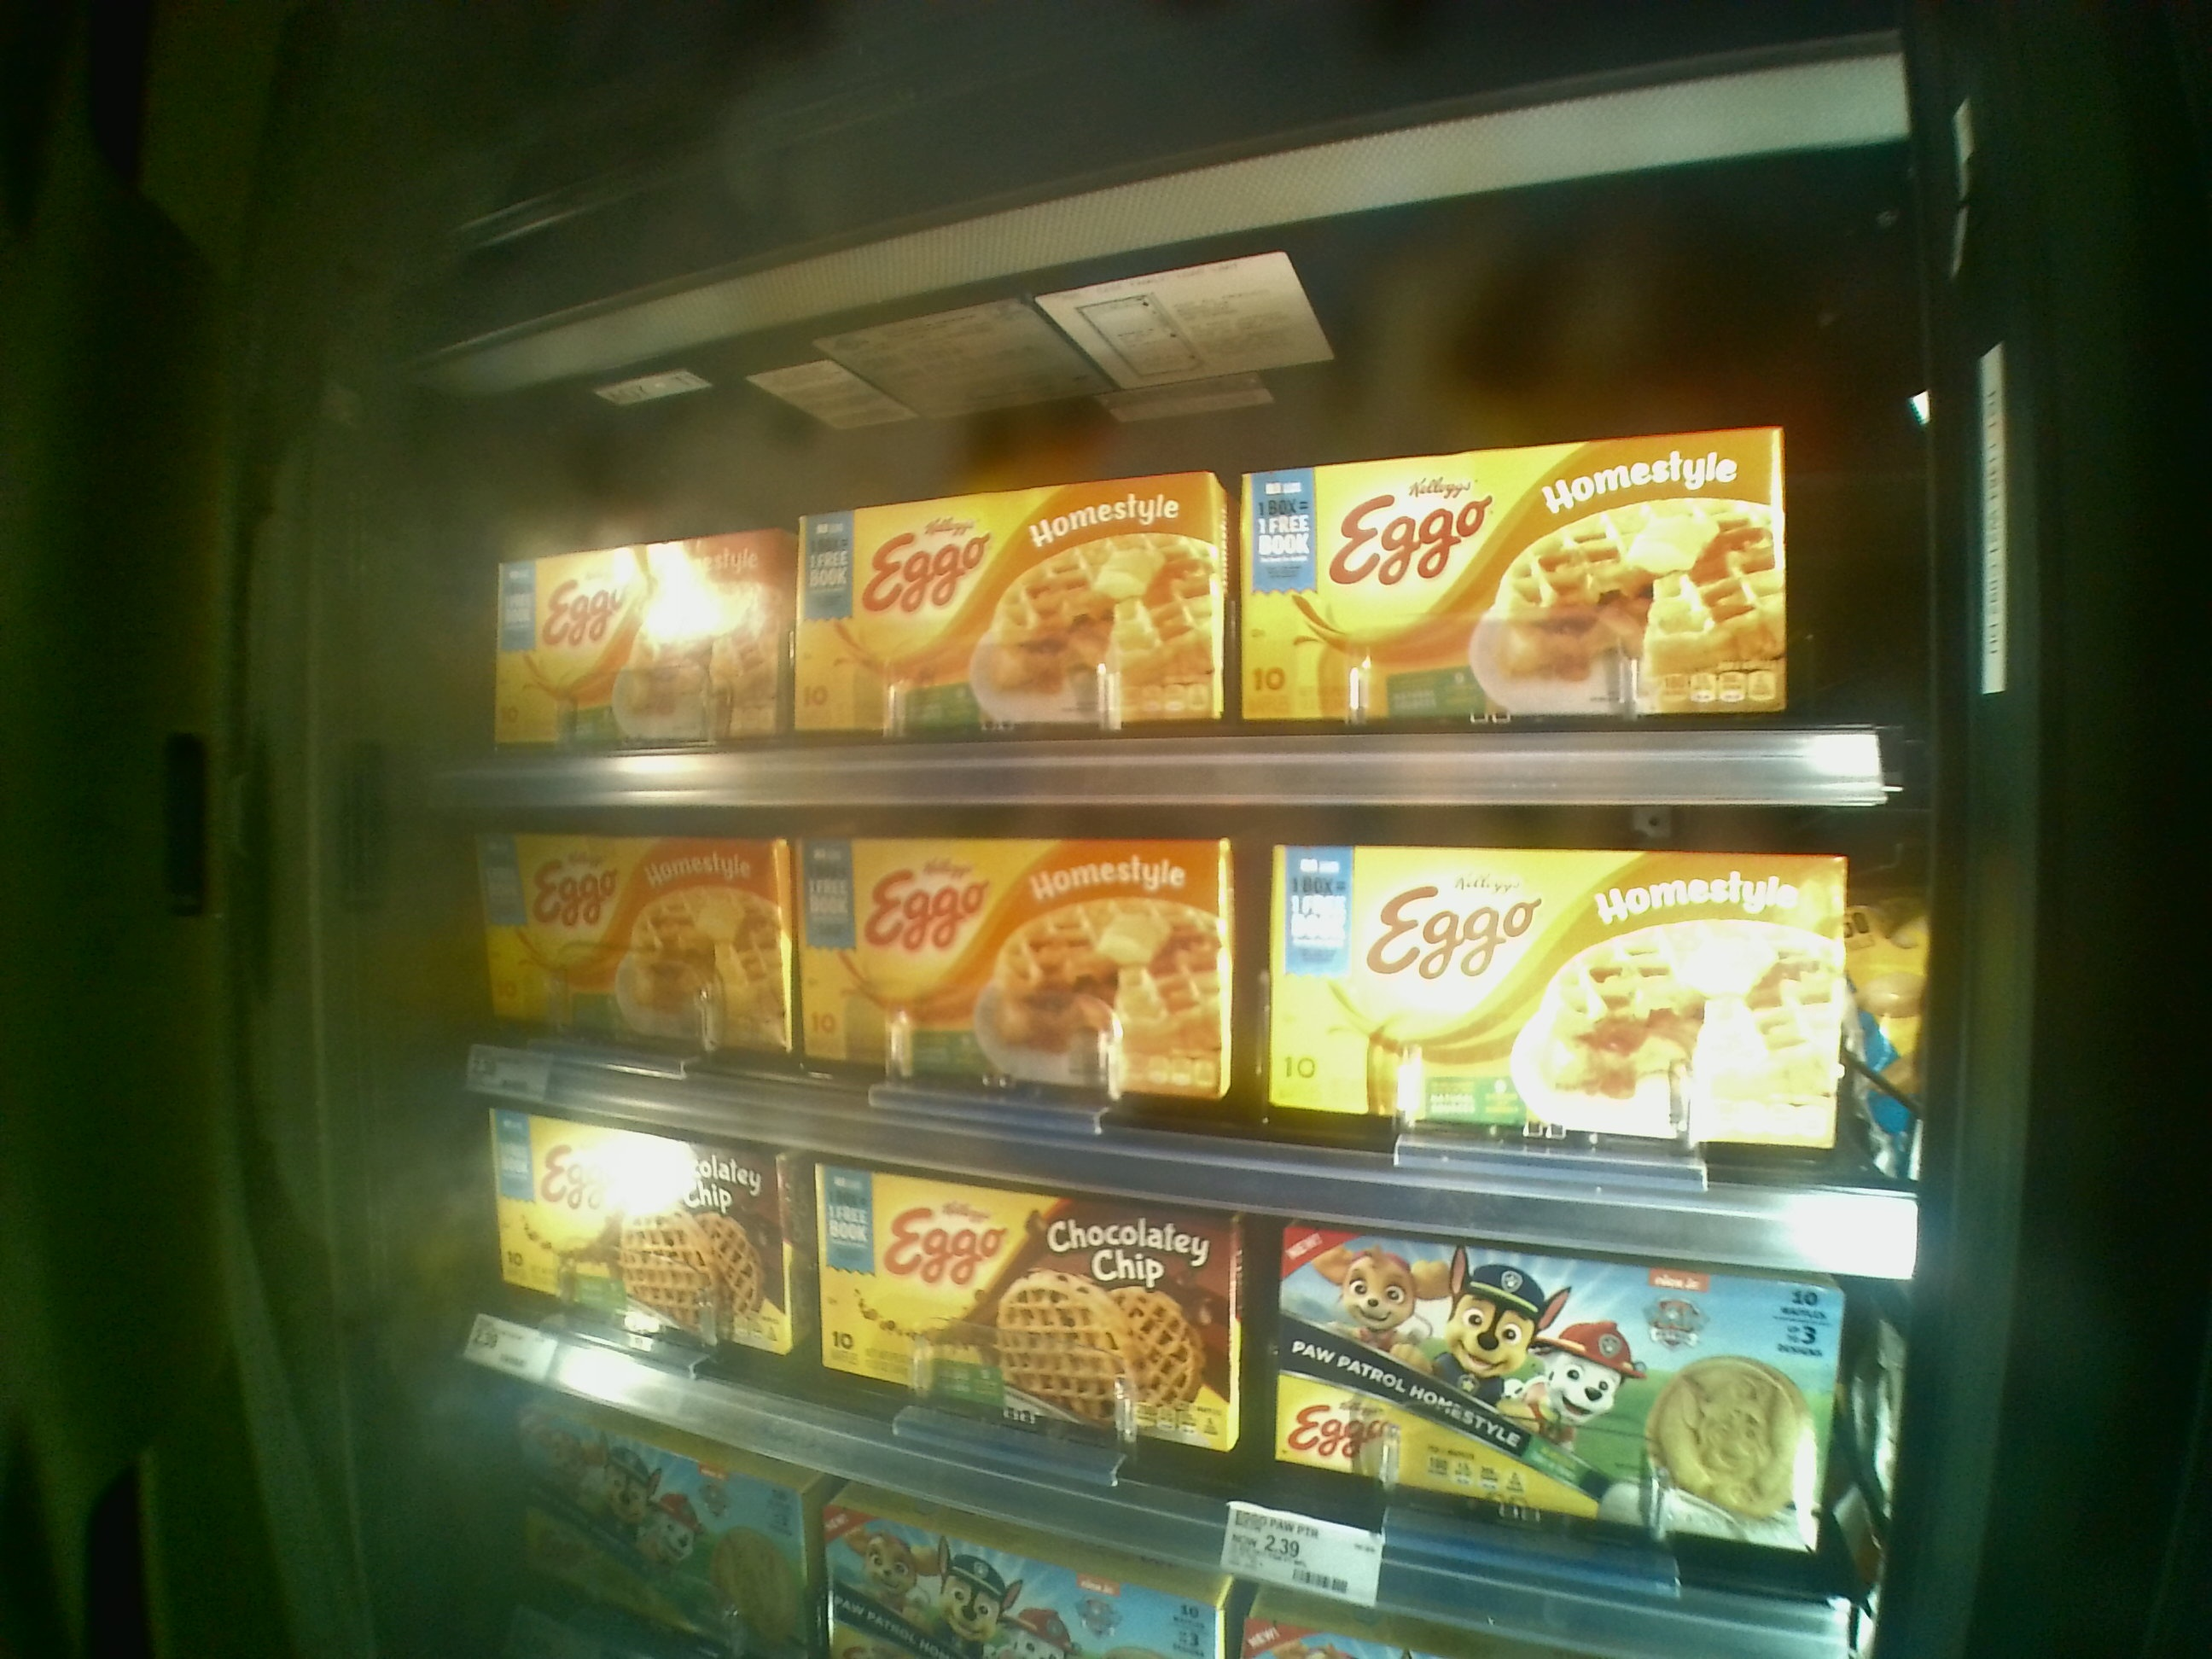shelf: (427, 247, 1885, 803), (420, 796, 1935, 1291)
